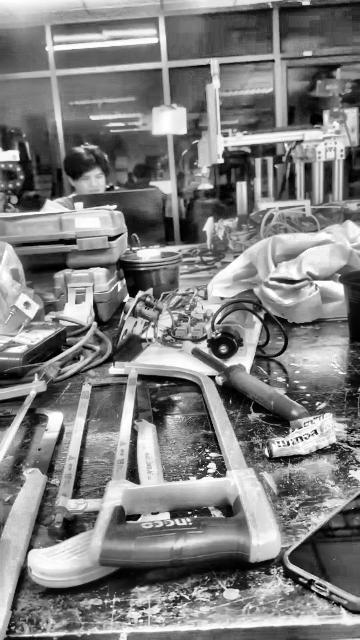pot: (120, 249, 181, 297), (340, 271, 359, 341)
